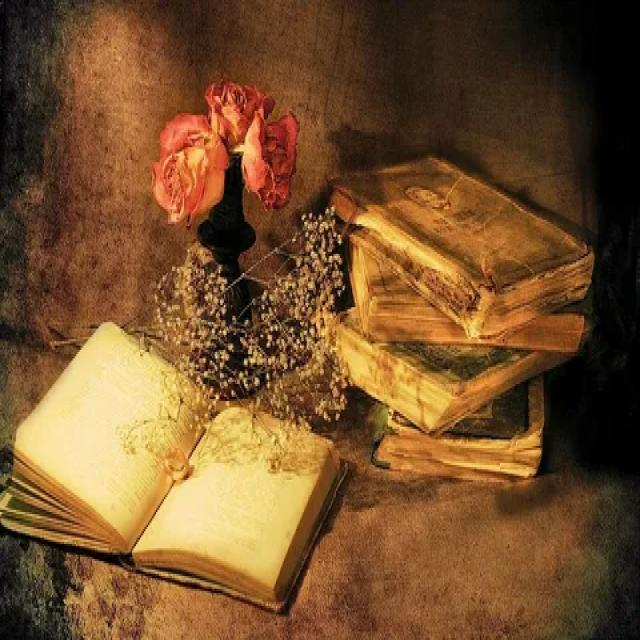book: (0, 301, 356, 631)
